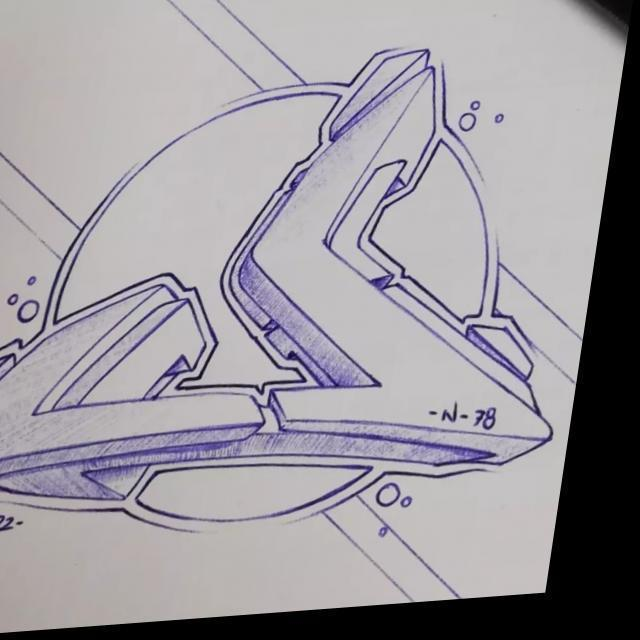nonspitting: (0, 43, 558, 539)
